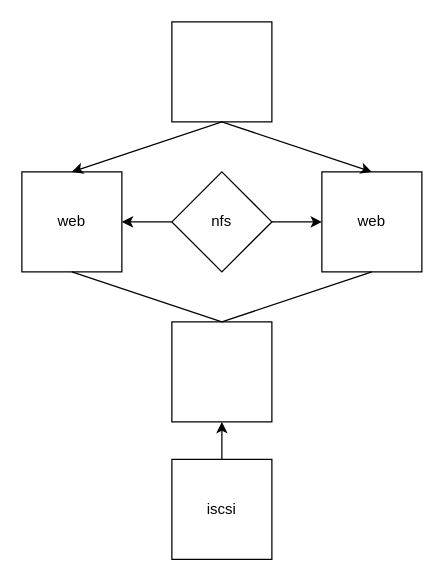
This 444x581 diagram has some shape labels left out. Here are the shapes that lost their labels. From the top down, the box of each, then its label:
(171, 21, 272, 122): LB
(171, 321, 272, 422): mysql
